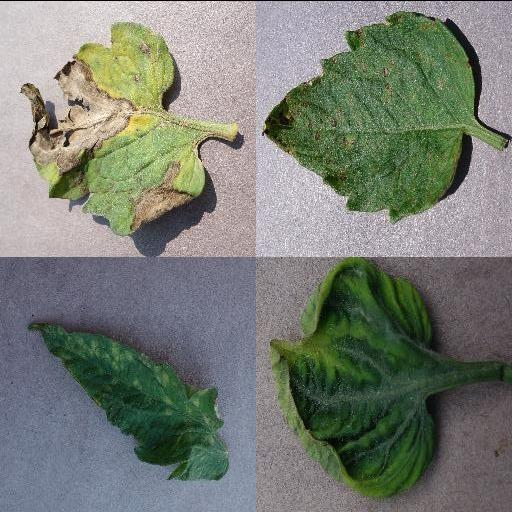Late Blight: (16, 19, 208, 235)
Leaf Mold: (27, 319, 229, 481)
Septoria: (262, 8, 476, 222)
Yellow Leaf Curl Virus: (269, 256, 439, 497)
